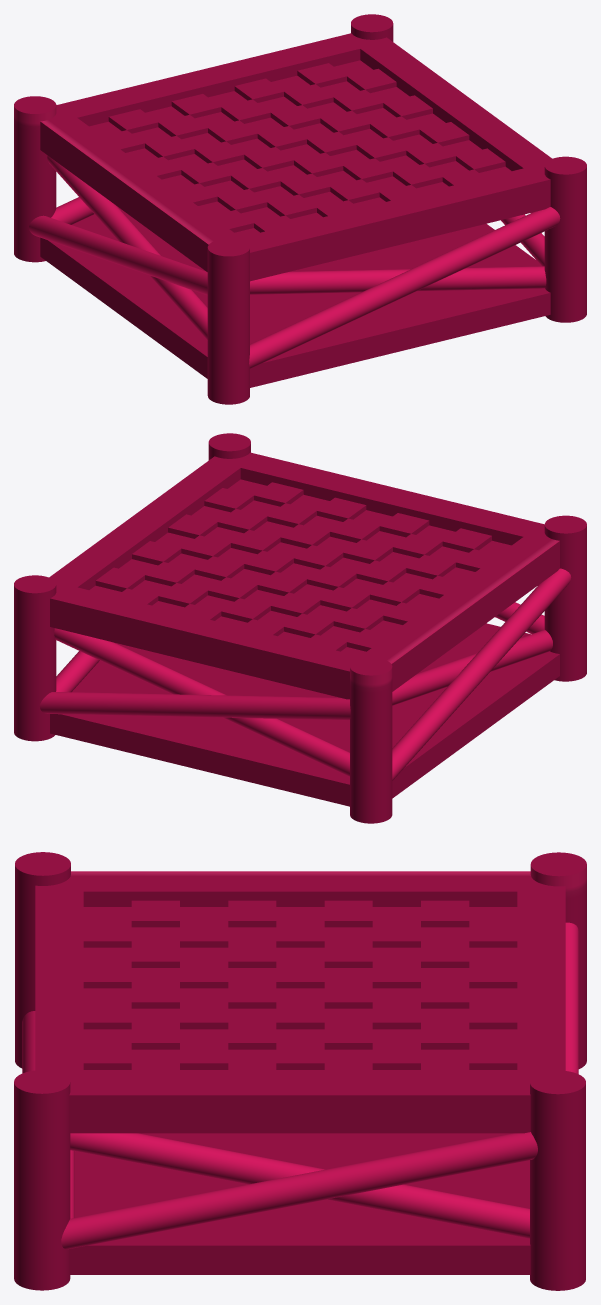
The model's file is ElecPlate.obj.
The picture shows the model from 3 angles, top to bottom: view 1: azimuth 30°, elevation 25°; view 2: azimuth 150°, elevation 25°; view 3: azimuth 270°, elevation 25°; orthographic projection. The views are drawn at different scales.
Parts seen in each view (by area): view 1: 円柱.001, 円柱.008, 円柱.007, 円柱.004, 円柱.002, 円柱.005, 円柱.006, 円柱.011, 円柱.010, 円柱.003, 円柱.012, 円柱.016; view 2: 円柱.001, 円柱.008, 円柱.013, 円柱.005, 円柱.003, 円柱.012, 円柱.011, 円柱.004, 円柱.010, 円柱.009, 円柱.002; view 3: 円柱.001, 円柱.008, 円柱.016, 円柱.002, 円柱.003, 円柱.009, 円柱.004, 円柱.005, 円柱.013, 円柱.007.
Boxes of the visible parts, x1,y1,x2,y2 form: 円柱.001: (40,33,551,281); 円柱.008: (40,206,550,387); 円柱.007: (249,207,560,368); 円柱.004: (207,238,249,404); 円柱.002: (544,156,586,322); 円柱.005: (14,96,56,262); 円柱.006: (250,266,546,294); 円柱.011: (29,215,207,295); 円柱.010: (47,156,207,340); 円柱.003: (351,14,393,41); 円柱.012: (51,197,93,224); 円柱.016: (501,214,544,266); 円柱.001: (49,452,559,699); 円柱.008: (50,623,559,806); 円柱.013: (39,692,350,720); 円柱.005: (350,657,392,823); 円柱.003: (14,575,56,741); 円柱.012: (54,628,349,776); 円柱.011: (392,568,571,780); 円柱.004: (544,515,586,681); 円柱.010: (392,629,552,705); 円柱.009: (56,642,114,692); 円柱.002: (208,433,250,460); 円柱.001: (35,871,565,1133); 円柱.008: (69,1133,530,1274); 円柱.016: (61,1132,537,1249); 円柱.002: (14,1070,70,1290); 円柱.003: (530,1070,585,1290); 円柱.009: (70,1133,529,1238); 円柱.004: (15,852,70,1068); 円柱.005: (530,852,586,1068); 円柱.013: (565,922,578,1073); 円柱.007: (22,1011,35,1073).
Bounding box in the file's own units: 2.16 × 0.8186 × 2.16.
1 material, 1 textured.
